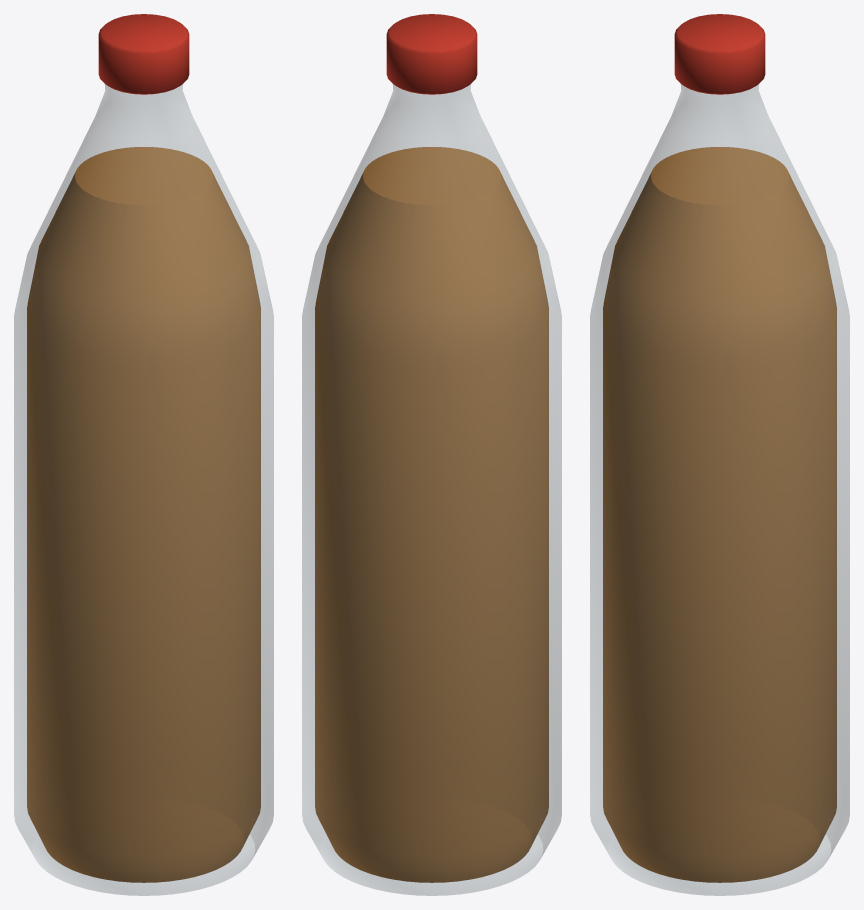
File: pet-guarana.glb
3 renders of one model, left to right at view 1: azimuth 30°, elevation 25°; view 2: azimuth 150°, elevation 25°; view 3: azimuth 270°, elevation 25°, orthographic.
Visible parts, largest first — view 1: pet-guarana; view 2: pet-guarana; view 3: pet-guarana.
Part boxes in pixels (x1,y1,x2,y2): pet-guarana: (14, 14, 273, 895); pet-guarana: (302, 14, 561, 895); pet-guarana: (590, 14, 849, 895).
Size of the model in its own units: 0.084 by 0.2914 by 0.084.
